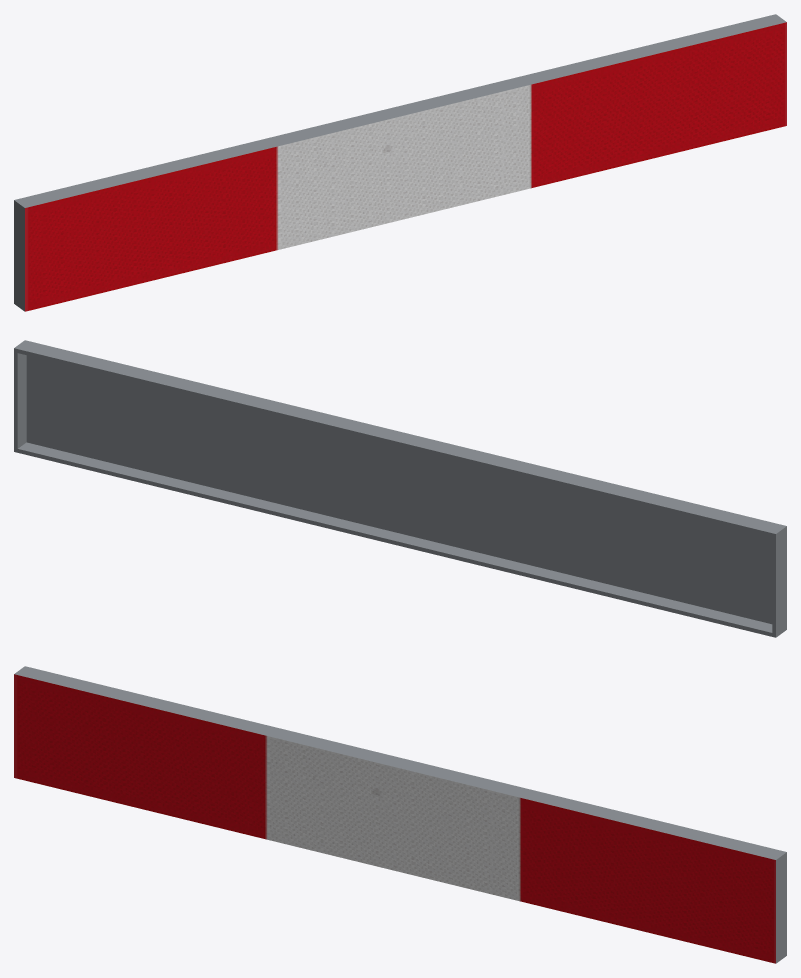
3 views of the same model, one above another, from view 1: azimuth 30°, elevation 25°; view 2: azimuth 150°, elevation 25°; view 3: azimuth 330°, elevation 25° (orthographic).
Parts seen in each view (by area): view 1: cat_cf9784d1cdfa6e73; view 2: cat_cf9784d1cdfa6e73; view 3: cat_cf9784d1cdfa6e73.
Boxes of the visible parts, x1=… form: cat_cf9784d1cdfa6e73: x1=14, y1=14, x2=786, y2=311; cat_cf9784d1cdfa6e73: x1=14, y1=340, x2=786, y2=637; cat_cf9784d1cdfa6e73: x1=14, y1=666, x2=786, y2=963.
Size of the model in its own units: 0.6 by 0.015 by 0.078.
Materials: 2 (1 with a texture image).
